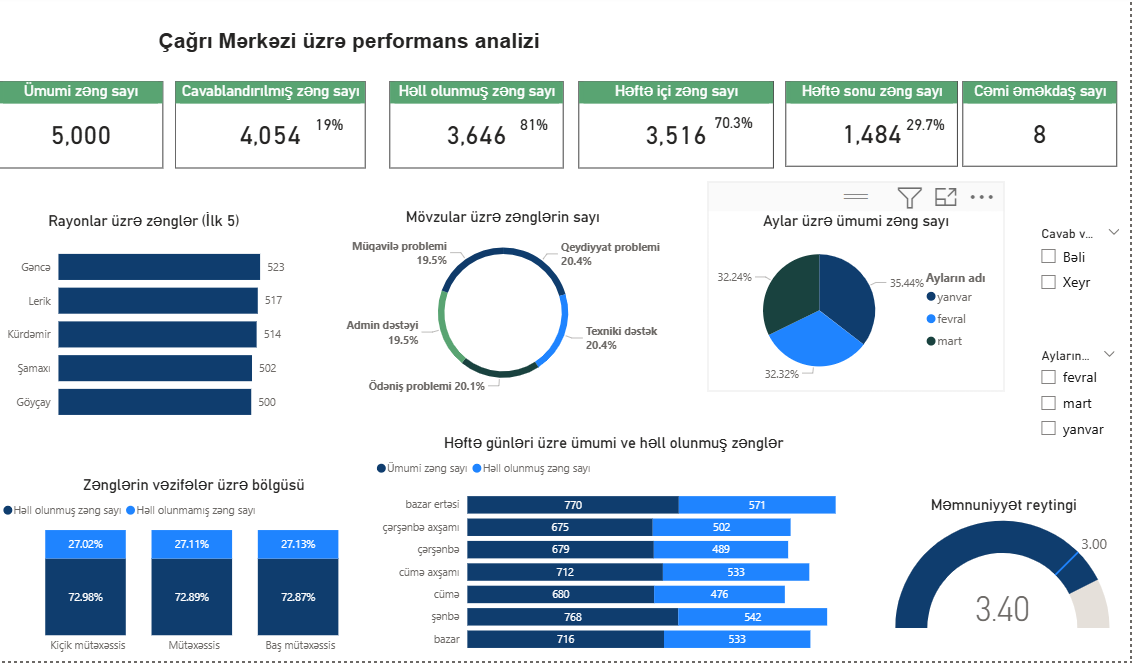

Layout of this report page (visuals, bound fields, positions):
{"tool":"powerbi","page":{"name":"Page 1","canvas":[1280,720],"ordinal":0},"visuals":[{"type":"hundredPercentStackedColumnChart","title":"Zənglərin vəzifələr üzrə bölgüsü","fields":{"Category":["Əməkdaş.Vəzifəsi"],"Y":["Measure.Həll olunmuş zəng sayı","Measure.Həll olunmamış zəng sayı"]},"box":[0,510.3,442.5,210.2],"z":0},{"type":"donutChart","title":"Mövzular üzrə zənglərin sayı","fields":{"Category":["Data.Mövzu"],"Y":["Measure.Ümumi zəng sayı"]},"box":[349.3,206.8,442.5,218.7],"z":1000},{"type":"clusteredBarChart","title":"Rayonlar üzrə zənglər  (İlk 5)","fields":{"Category":["Vətəndaş.Rayon"],"Y":["Measure.Ümumi zəng sayı"]},"box":[0,211.9,328.9,250.9],"z":2000},{"type":"pieChart","title":"Aylar üzrə ümumi zəng sayı","fields":{"Category":["Calendar table.Ayların adı"],"Y":["Measure.Ümumi zəng sayı"]},"box":[802,211.9,335.7,203.5],"z":3000},{"type":"card","title":"Cavablandırılmış zəng sayı","fields":{"Values":["Measure.Cavab verilmiş zənglərin sayı"]},"box":[200.1,64.4,215.3,98.3],"z":4000},{"type":"card","title":"Ümumi zəng sayı","fields":{"Values":["Measure.Ümumi zəng sayı"]},"box":[0,64.4,186.5,98.3],"z":5000},{"type":"card","title":"Həll olunmuş zəng sayı","fields":{"Values":["Measure.Həll olunmuş zəng sayı"]},"box":[442.5,64.4,196.7,98.3],"z":6000},{"type":"card","title":"Cəmi əməkdaş sayı","fields":{"Values":["Measure.Əməkdaş sayı"]},"box":[1090.2,64.4,174.6,96.6],"z":7000},{"type":"slicer","fields":{"Values":["Calendar table.Ayların adı"]},"box":[1166.5,361.1,108.5,117],"z":8000},{"type":"card","title":"Həftə sonu zəng sayı","fields":{"Values":["Measure.Hefte sonu zənglərin sayı"]},"box":[890.1,64.4,195,96.6],"z":9000},{"type":"card","title":"Həftə içi zəng sayı","fields":{"Values":["Measure.Həftə içi zənglərin sayı"]},"box":[656.2,64.4,220.4,98.3],"z":10000},{"type":"textbox","box":[137.3,0,518.8,40.7],"z":11000},{"type":"slicer","fields":{"Values":["Data.Cavab verilib(Bəli\\Xeyr)"]},"box":[1166.5,222.1,113.6,94.9],"z":12000},{"type":"gauge","fields":{"Y":["Measure.Məmnuniyyət reytingi"]},"box":[1008.8,532.4,256,159.4],"z":13000},{"type":"card","fields":{"Values":["Measure.% cavab verilməmiş zəng"]},"box":[351,93.3,45.8,40.7],"z":14000},{"type":"card","fields":{"Values":["Measure.% cavab verilmiş zəng"]},"box":[583.2,93.3,44.1,40.7],"z":15000},{"type":"card","fields":{"Values":["Measure.% həftə içi zənglər"]},"box":[802,91.6,57.6,40.7],"z":16000},{"type":"card","fields":{"Values":["Measure.% həftə sonu zənglər"]},"box":[1020.7,93.3,54.3,40.7],"z":17000},{"type":"barChart","title":"Həftə günləri üzre ümumi ve həll olunmuş zənglər","fields":{"Category":["Calendar table.Həftə gün adı"],"Y":["Measure.Ümumi zəng sayı","Measure.Həll olunmuş zəng sayı"]},"box":[422.2,462.9,547.6,257.7],"z":19000}]}

Visuals, with their boxes on the page's 1280x720 design canvas (x1, y1, x2, y2). These are canvas units, not pixel positions in the 1132x663 screenshot, which may show the page scaled, cropped or inside an application window:
"Zənglərin vəzifələr üzrə bölgüsü" hundredPercentStackedColumnChart: <region>0, 510, 442, 720</region>
"Mövzular üzrə zənglərin sayı" donutChart: <region>349, 207, 792, 426</region>
"Rayonlar üzrə zənglər  (İlk 5)" clusteredBarChart: <region>0, 212, 329, 463</region>
"Aylar üzrə ümumi zəng sayı" pieChart: <region>802, 212, 1138, 415</region>
"Cavablandırılmış zəng sayı" card: <region>200, 64, 415, 163</region>
"Ümumi zəng sayı" card: <region>0, 64, 186, 163</region>
"Həll olunmuş zəng sayı" card: <region>442, 64, 639, 163</region>
"Cəmi əməkdaş sayı" card: <region>1090, 64, 1265, 161</region>
slicer - Calendar table.Ayların adı: <region>1166, 361, 1275, 478</region>
"Həftə sonu zəng sayı" card: <region>890, 64, 1085, 161</region>
"Həftə içi zəng sayı" card: <region>656, 64, 877, 163</region>
textbox: <region>137, 0, 656, 41</region>
slicer - Data.Cavab verilib(Bəli\Xeyr): <region>1166, 222, 1280, 317</region>
gauge - Measure.Məmnuniyyət reytingi: <region>1009, 532, 1265, 692</region>
card - Measure.% cavab verilməmiş zəng: <region>351, 93, 397, 134</region>
card - Measure.% cavab verilmiş zəng: <region>583, 93, 627, 134</region>
card - Measure.% həftə içi zənglər: <region>802, 92, 860, 132</region>
card - Measure.% həftə sonu zənglər: <region>1021, 93, 1075, 134</region>
"Həftə günləri üzre ümumi ve həll olunmuş zənglər" barChart: <region>422, 463, 970, 721</region>
